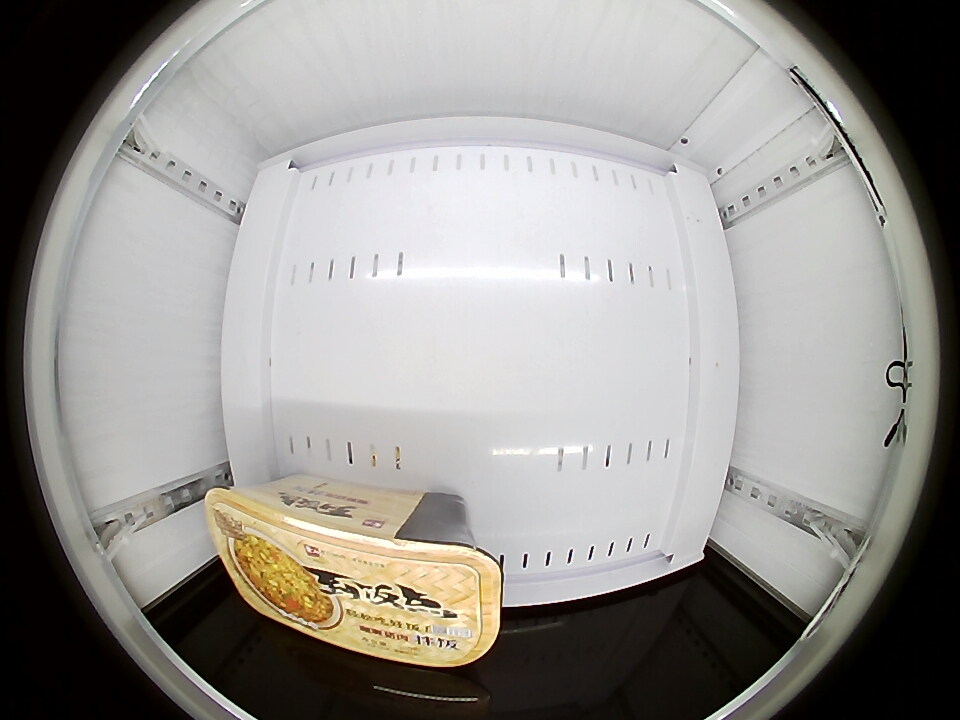daofandian3: (208, 480, 502, 667)
